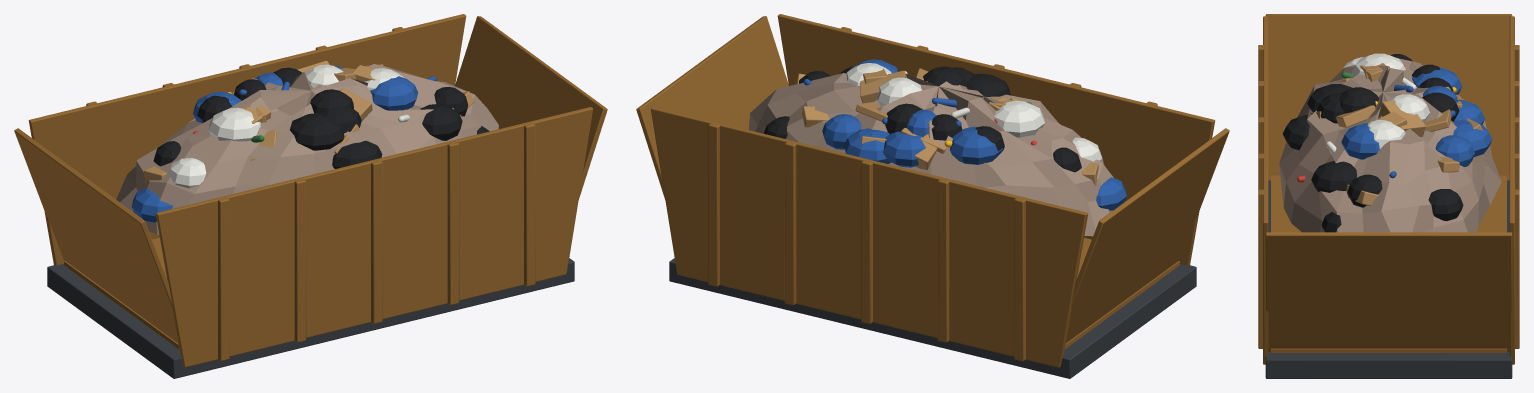
File: skip_bin.fbx
3 views of the same model, side by side, from view 1: azimuth 30°, elevation 25°; view 2: azimuth 150°, elevation 25°; view 3: azimuth 270°, elevation 25° (orthographic). The views are drawn at different scales.
Parts seen in each view (by area): view 1: skip_bin; view 2: skip_bin; view 3: skip_bin.
Part boxes in pixels (x1,y1,x2,y2): skip_bin: [14, 14, 607, 378]; skip_bin: [636, 14, 1229, 378]; skip_bin: [1258, 14, 1519, 378].
Bounding box in the file's own units: 4.89 × 2.04 × 2.44.
